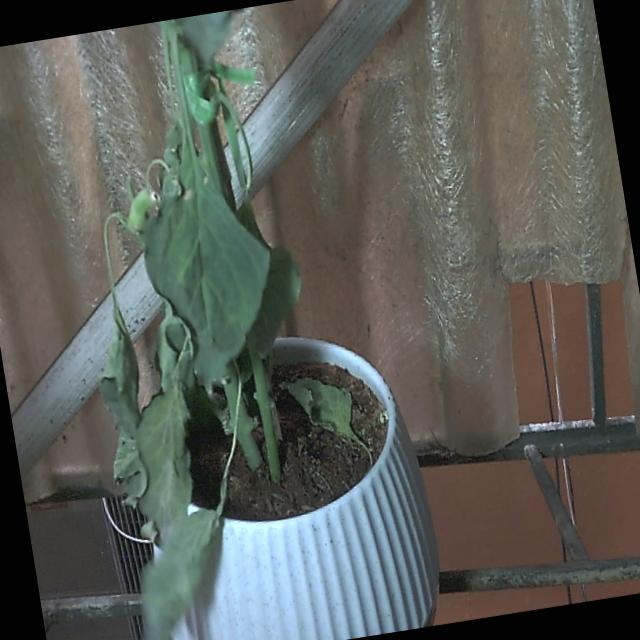Leaf: (132, 136, 287, 412), (116, 374, 210, 560), (282, 369, 356, 442)
